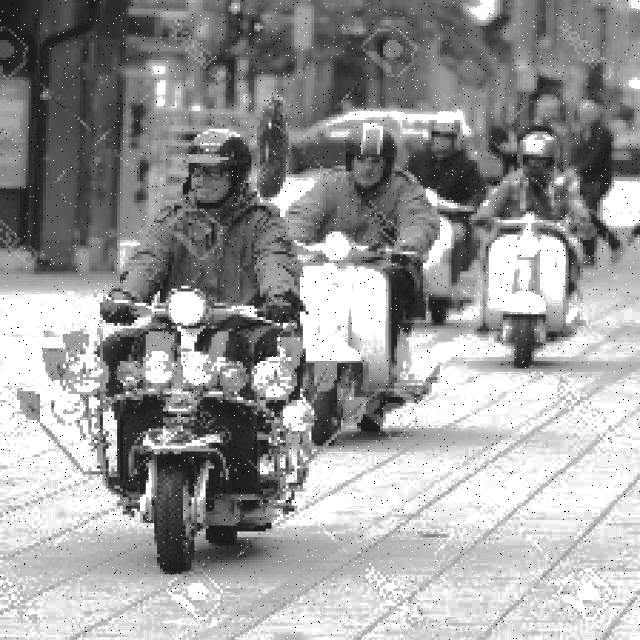Bike: (80, 300, 306, 584), (286, 235, 437, 439), (470, 218, 606, 382)
